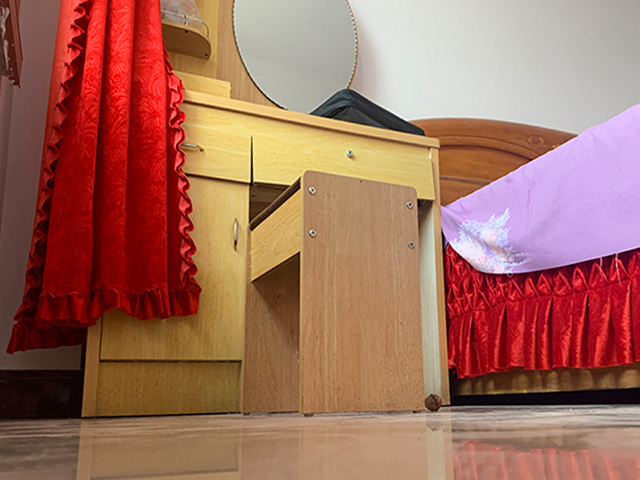bed: (411, 103, 640, 398)
curtain: (10, 4, 204, 352)
stool: (240, 171, 426, 415)
table: (79, 88, 438, 418)
